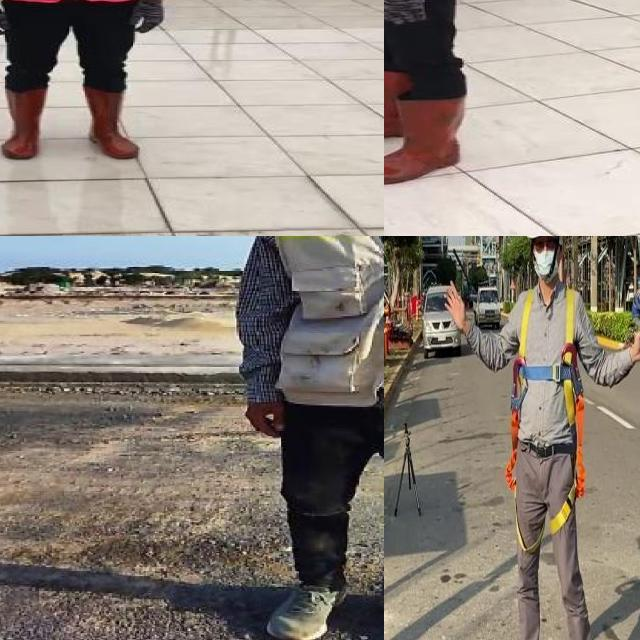Harness: (506, 289, 586, 534)
boots: (384, 93, 462, 188), (78, 87, 145, 161), (384, 59, 434, 148), (2, 86, 42, 159)
hand_glove: (384, 0, 430, 25), (131, 0, 165, 33), (0, 4, 12, 36)
person: (233, 236, 384, 640), (0, 0, 176, 163), (384, 0, 501, 194)
shoes: (260, 576, 354, 640)
vest: (262, 236, 384, 416)
